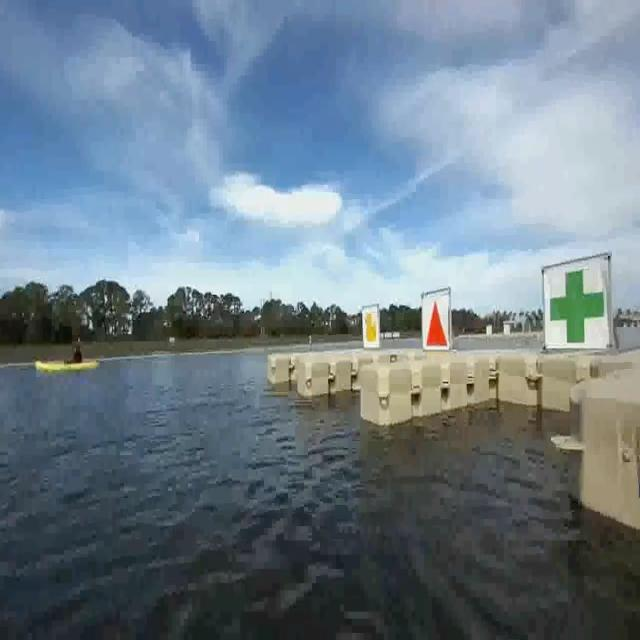blue-cross: (546, 267, 608, 357)
red-dot: (423, 298, 448, 347)
yellow-duck: (360, 308, 380, 348)
